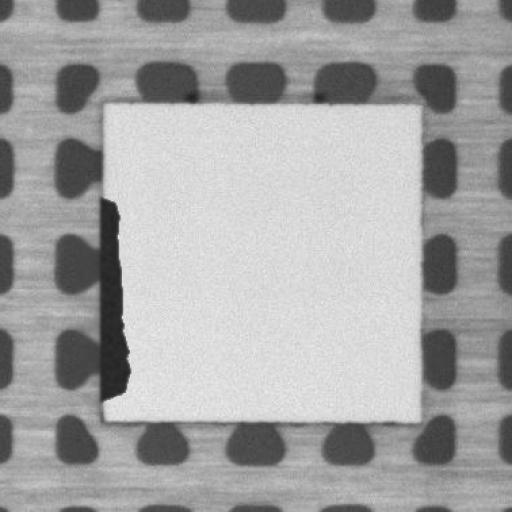DIE_BROKEN: (94, 188, 132, 406)
